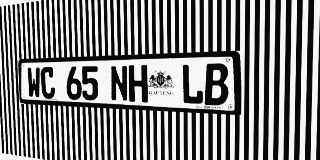5: (81, 66, 98, 101)
6: (66, 66, 82, 100)
B: (204, 63, 228, 106)
C: (40, 67, 55, 99)
H: (128, 65, 148, 102)
L: (181, 64, 204, 105)
N: (110, 65, 128, 102)
W: (27, 67, 41, 98)
